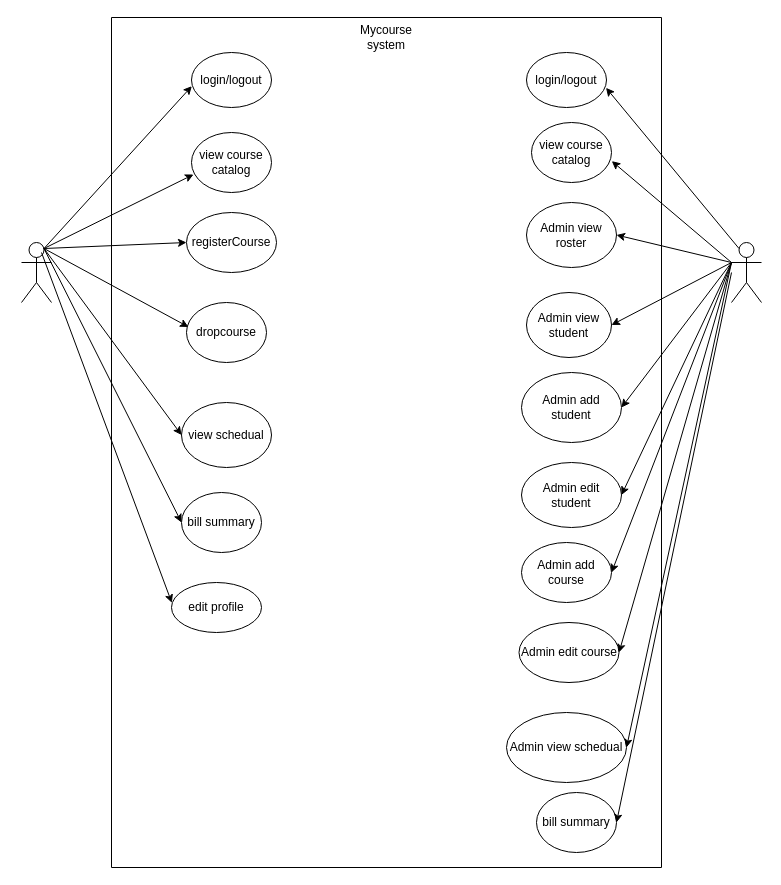
This 781x885 diagram has some shape labels left out. Here are the shapes that lost their labels. From the top down, the box of each, then its label:
(20, 242, 52, 302): student
(730, 242, 762, 302): Admin
